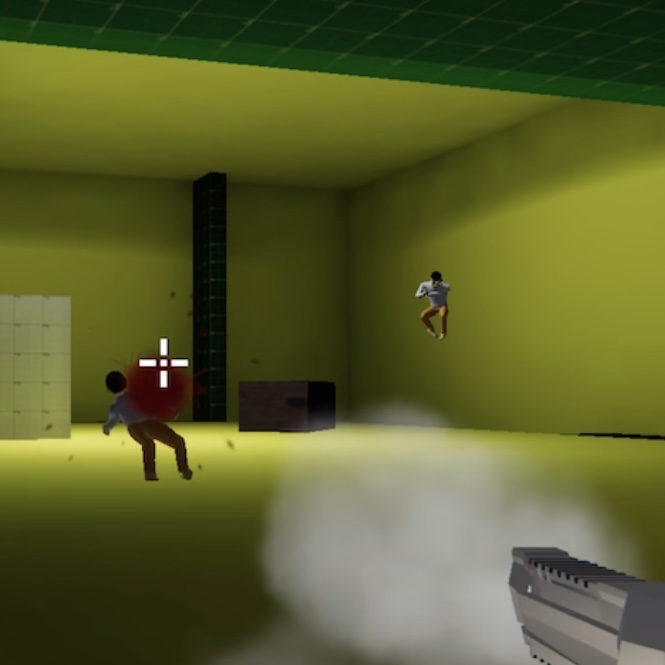human: (411, 267, 458, 340)
